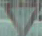Give way: (0, 0, 41, 34)
